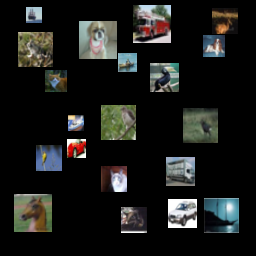automobile: (168, 199, 197, 228), (67, 139, 86, 158)
bird: (101, 105, 136, 140), (150, 63, 179, 92), (36, 145, 62, 171)
cat: (121, 207, 147, 233), (101, 166, 127, 192), (45, 70, 67, 92)
deer: (183, 108, 218, 143), (212, 8, 238, 34)
dog: (79, 21, 117, 59), (203, 35, 225, 57)
frog: (18, 32, 53, 67)
ship: (204, 198, 239, 233), (118, 53, 137, 72), (26, 7, 42, 23), (68, 115, 84, 131)
